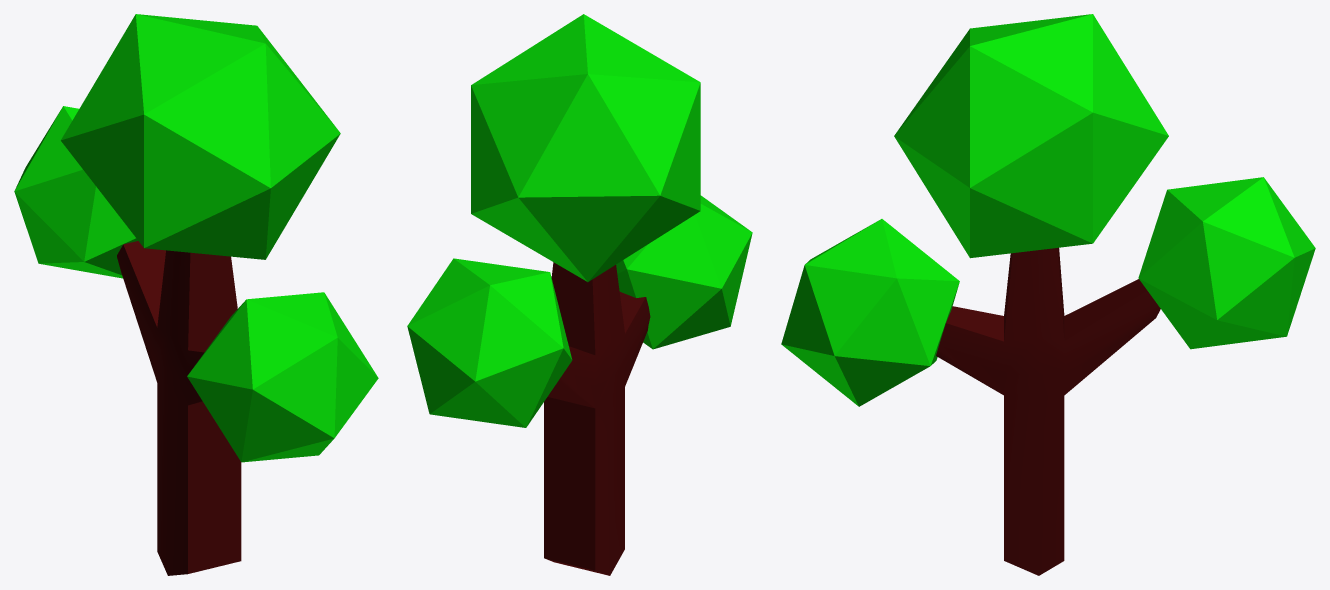
The model's file is Tree4.fbx.
3 views of the same model, side by side, from view 1: azimuth 30°, elevation 25°; view 2: azimuth 150°, elevation 25°; view 3: azimuth 270°, elevation 25° (orthographic). The views are drawn at different scales.
Visible parts, largest first — view 1: polySurface34; view 2: polySurface34; view 3: polySurface34.
Boxes of the visible parts, x1,y1,x2,y2 form: polySurface34: (14,14,378,575); polySurface34: (407,14,752,575); polySurface34: (781,14,1315,575).
Bounding box in the file's own units: 4.07 × 9.72 × 8.85.
